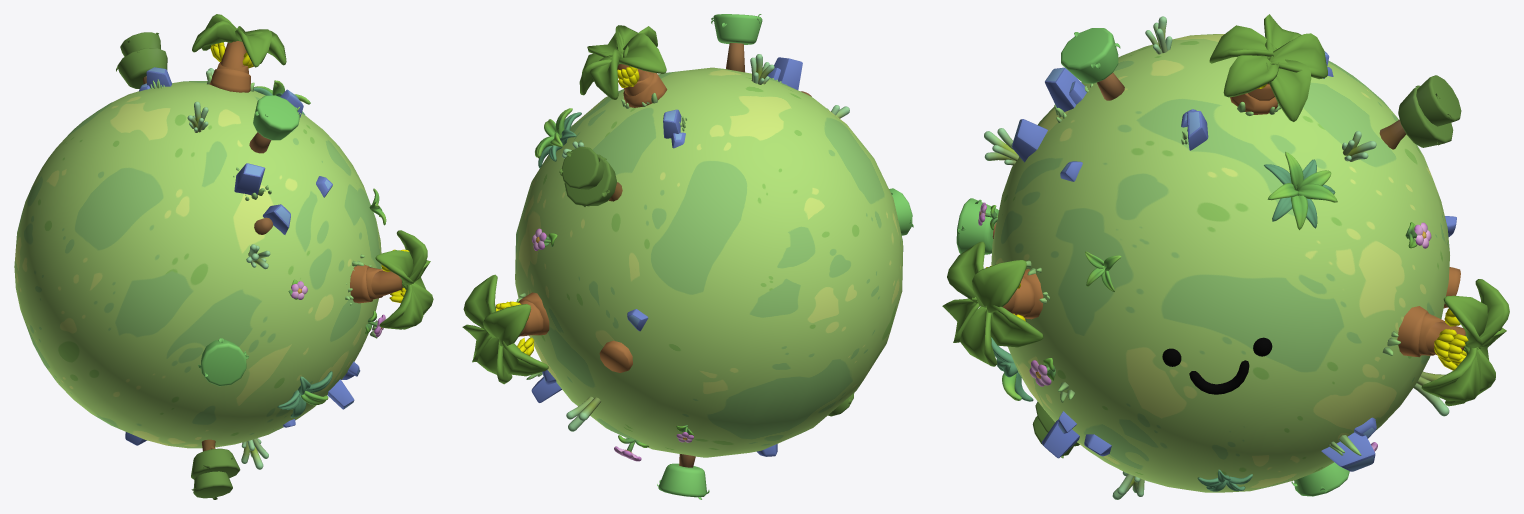
File: planet.glb
The picture shows the model from 3 angles, left to right: view 1: azimuth 30°, elevation 25°; view 2: azimuth 150°, elevation 25°; view 3: azimuth 270°, elevation 25°; orthographic projection. The views are drawn at different scales.
Parts seen in each view (by area): view 1: MainPlanet, TreeSmall.002; view 2: MainPlanet, TreeSmall.002, TreeBanana.004; view 3: MainPlanet, TreeSmall.002, wTube.
Part boxes in pixels (x1,y1,x2,y2): MainPlanet: (14, 81, 381, 448); TreeSmall.002: (116, 14, 433, 499); MainPlanet: (515, 67, 903, 457); TreeSmall.002: (462, 14, 913, 499); TreeBanana.004: (599, 340, 632, 372); MainPlanet: (991, 34, 1449, 492); TreeSmall.002: (942, 14, 1509, 499); wTube: (1189, 360, 1249, 394).
Size of the model in its own units: 13.87 by 16.81 by 16.94.
Materials: 4 (1 with a texture image).
